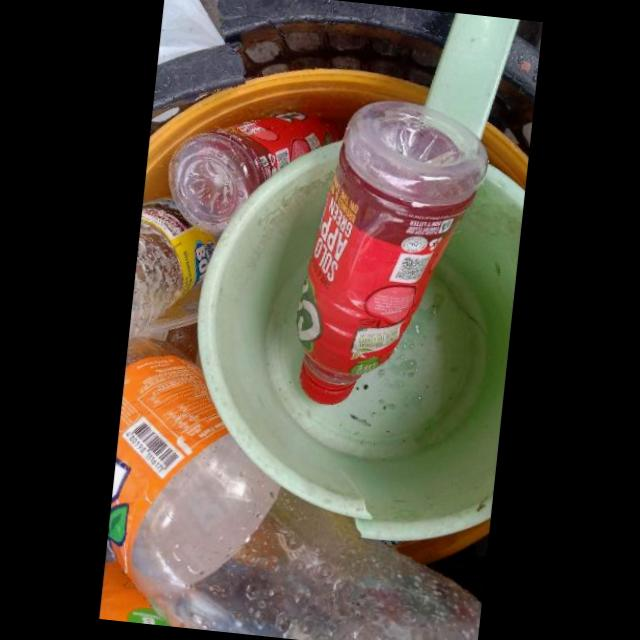chai_nhua_pet: (107, 336, 482, 640), (296, 97, 490, 405), (168, 113, 340, 236), (128, 200, 216, 343)
